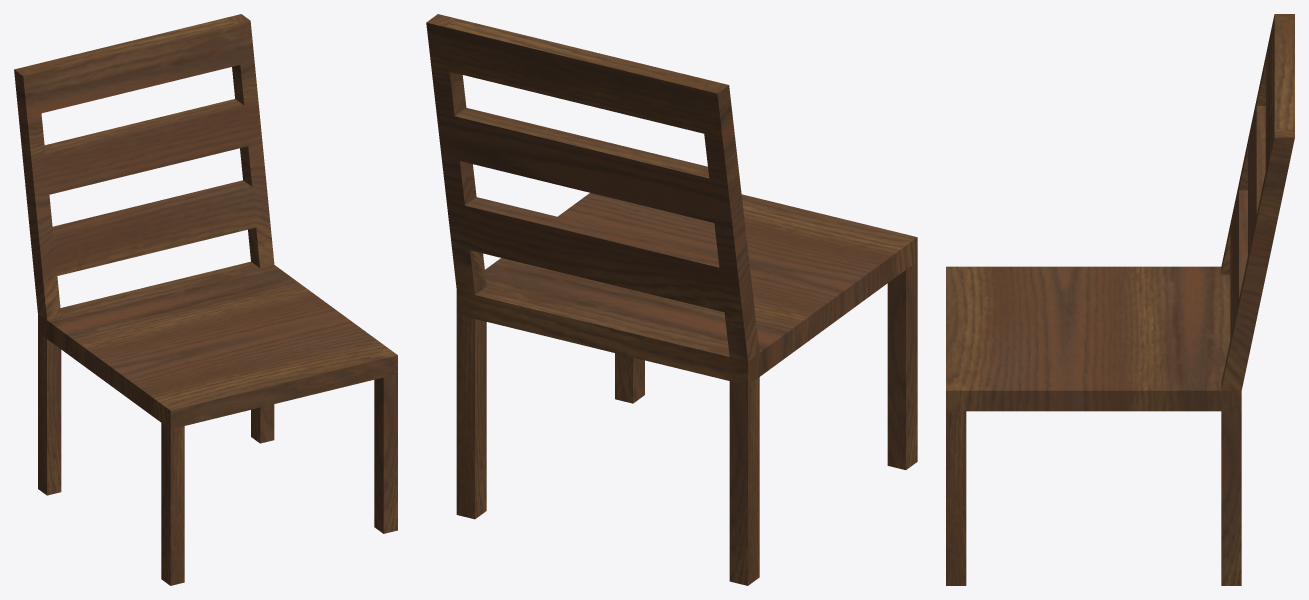
Rendered from Chair.fbx.
3 views of the same model, side by side, from view 1: azimuth 30°, elevation 25°; view 2: azimuth 150°, elevation 25°; view 3: azimuth 270°, elevation 25° (orthographic). The views are drawn at different scales.
Parts seen in each view (by area): view 1: Chair; view 2: Chair; view 3: Chair.
Boxes of the visible parts, x1,y1,x2,y2 form: Chair: (14,14,397,585); Chair: (426,14,917,585); Chair: (946,14,1294,585).
Bounding box in the file's own units: 0.666 × 1.12 × 0.7936.
